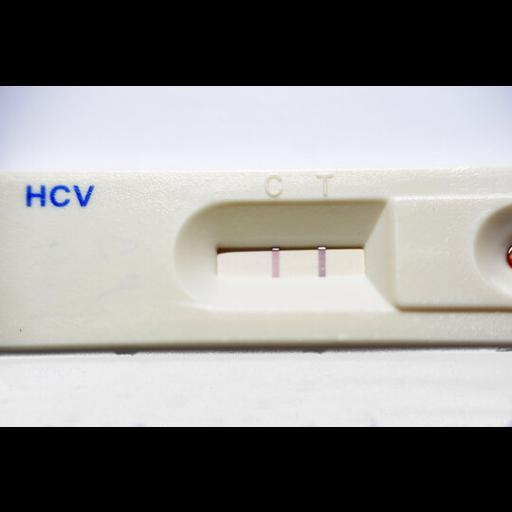Pos: (0, 168, 511, 348)
